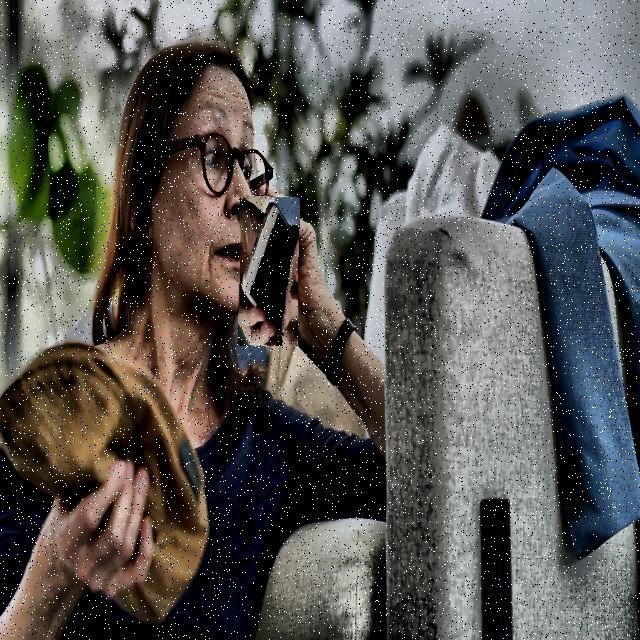Phone: (238, 196, 299, 346)
